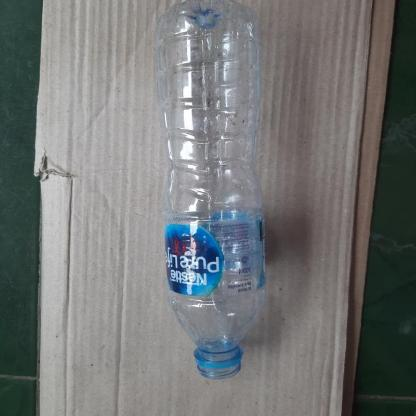Plastic Bottle: (161, 0, 265, 380)
